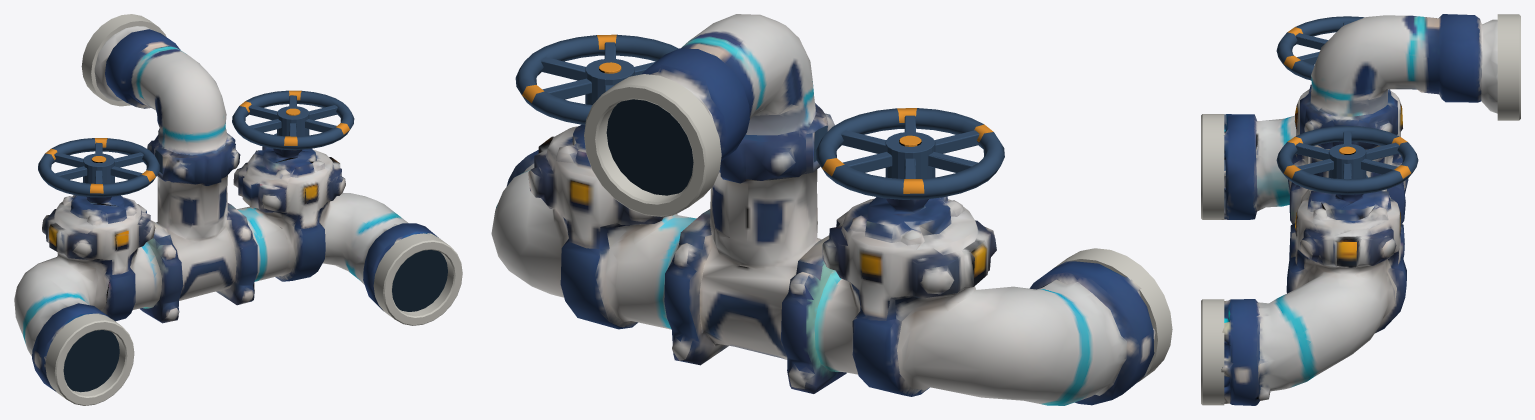
File: cryo-valve-manifold_LOD0.glb
The picture shows the model from 3 angles, left to right: view 1: azimuth 30°, elevation 25°; view 2: azimuth 150°, elevation 25°; view 3: azimuth 270°, elevation 25°; orthographic projection. The views are drawn at different scales.
Visible parts, largest first — view 1: cryo-valve-manifold_LOD0; view 2: cryo-valve-manifold_LOD0; view 3: cryo-valve-manifold_LOD0.
Boxes of the visible parts, left/top/right/bottom form: cryo-valve-manifold_LOD0: left=14, top=14, right=462, bottom=405; cryo-valve-manifold_LOD0: left=491, top=14, right=1172, bottom=405; cryo-valve-manifold_LOD0: left=1201, top=14, right=1520, bottom=405.
Size of the model in its own units: 2.31 by 1.35 by 1.35.
Materials: 1 (1 with a texture image).
